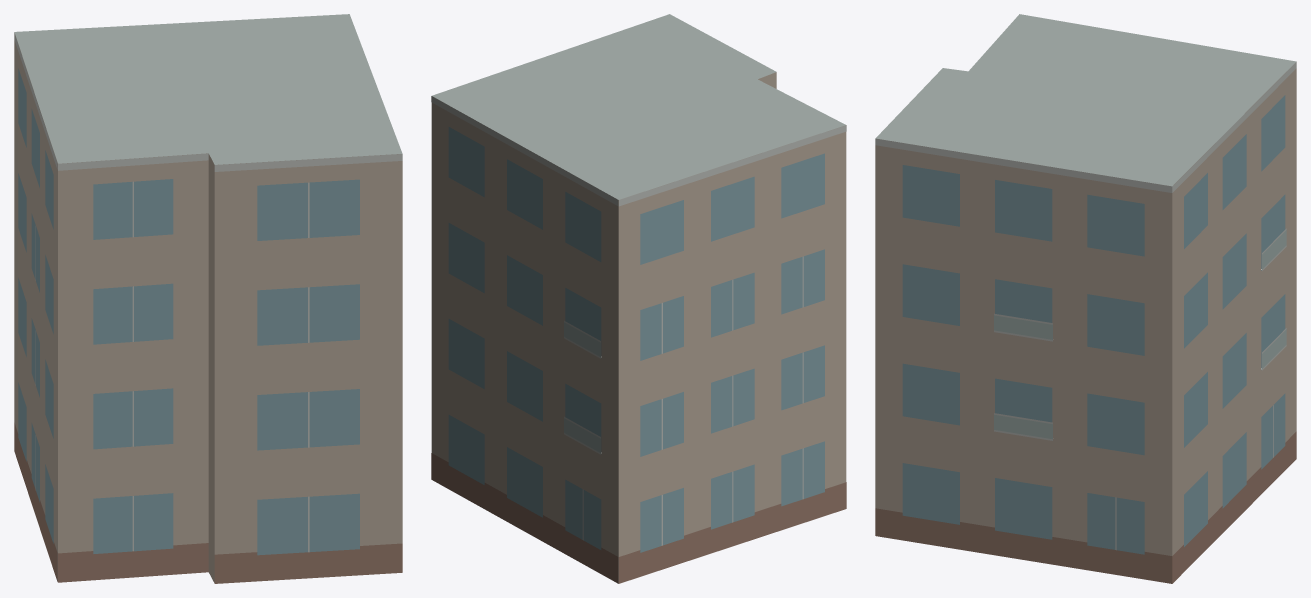
The model's file is survey-upis-32810543.glb.
The picture shows the model from 3 angles, left to right: view 1: azimuth 30°, elevation 25°; view 2: azimuth 150°, elevation 25°; view 3: azimuth 270°, elevation 25°; orthographic projection. The views are drawn at different scales.
Parts seen in each view (by area): view 1: survey-upis-32810543.tmp; view 2: survey-upis-32810543.tmp; view 3: survey-upis-32810543.tmp.
Boxes of the visible parts, x1=… form: survey-upis-32810543.tmp: x1=14, y1=14, x2=402, y2=583; survey-upis-32810543.tmp: x1=431, y1=14, x2=846, y2=583; survey-upis-32810543.tmp: x1=875, y1=14, x2=1296, y2=583.
Size of the model in its own units: 13.4 by 14.4 by 13.84.
